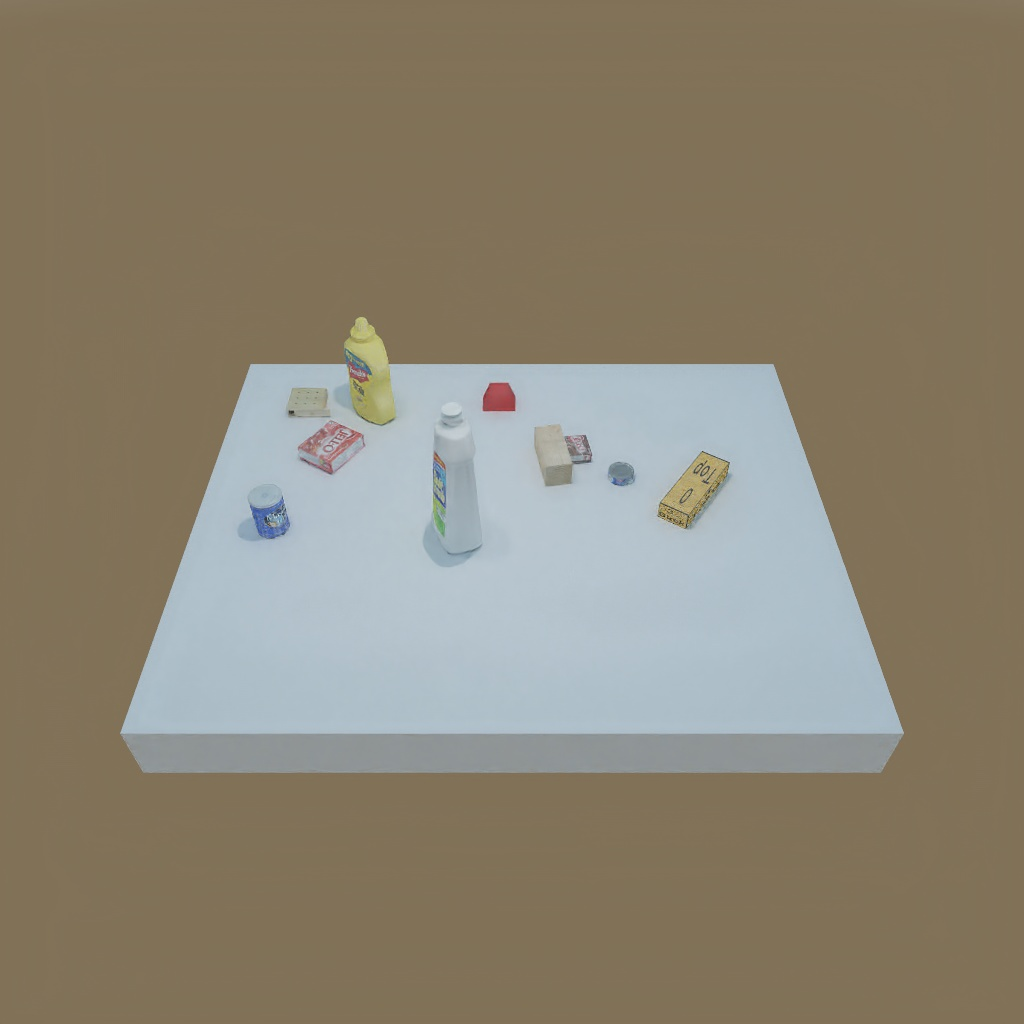gelatin_box: (296, 420, 363, 470)
jenga: (657, 446, 728, 533)
master_chef_can: (245, 480, 292, 536)
mustard_bottle: (341, 315, 394, 427)
nine_hole_peg_test: (284, 380, 335, 418)
pudding_box: (562, 429, 595, 467)
wood_block: (526, 417, 577, 489)
